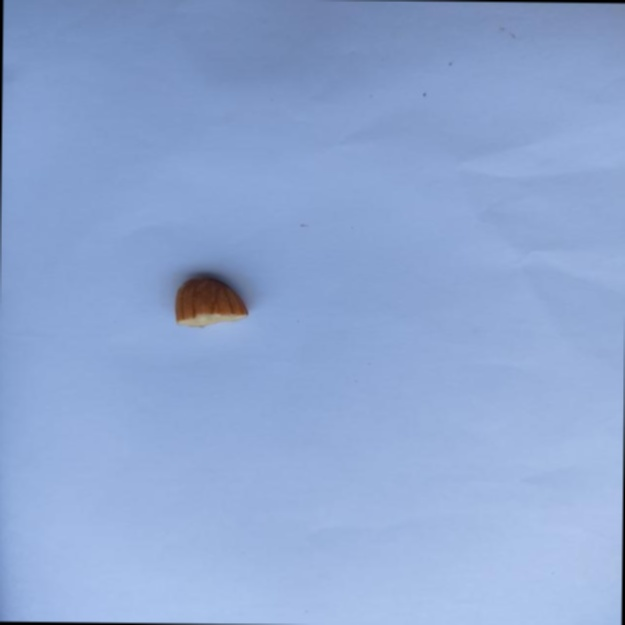grade4: (168, 270, 257, 332)
